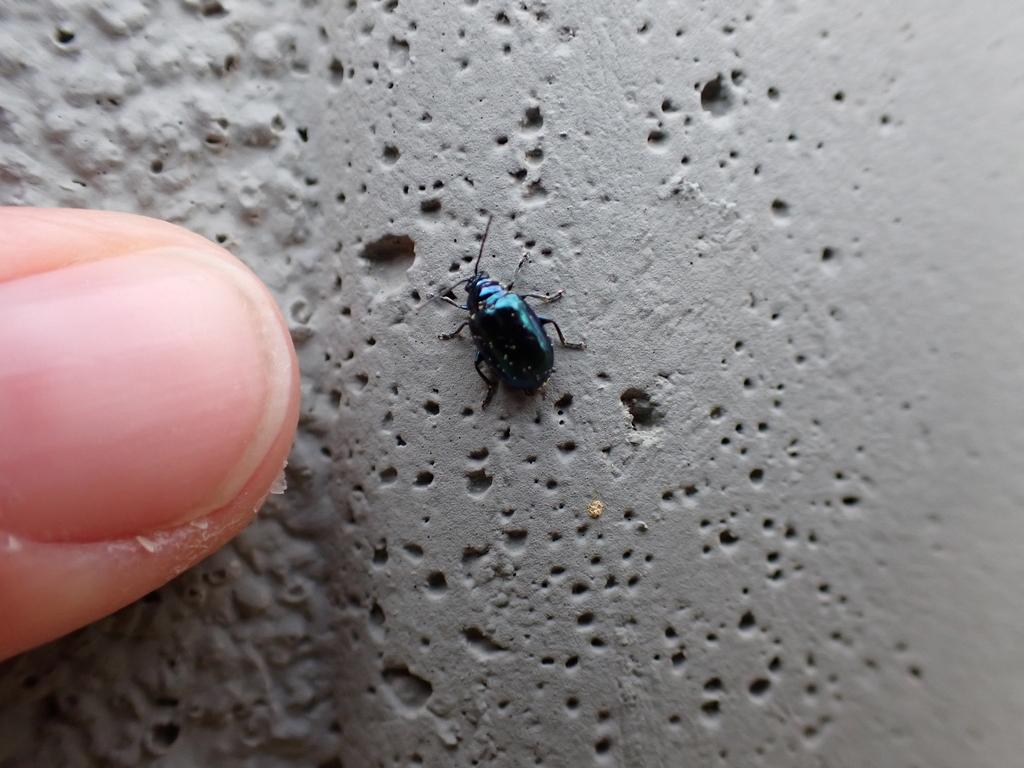flea_beetle: (377, 193, 684, 459)
